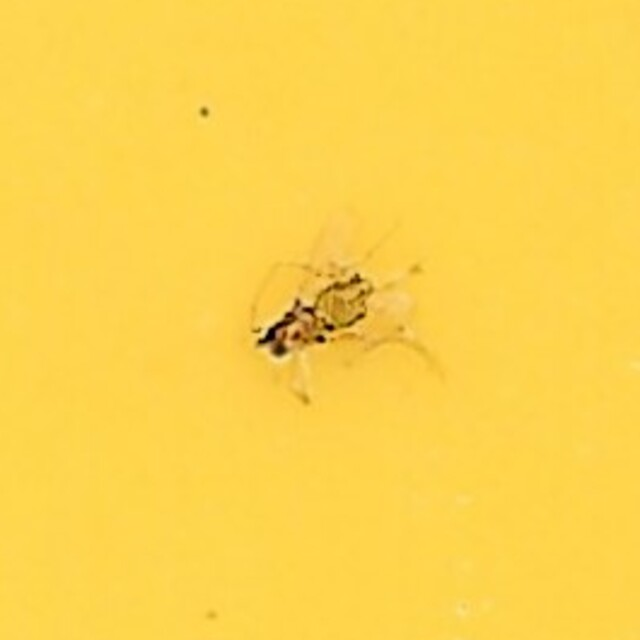Nematocera: (242, 256, 398, 384)
